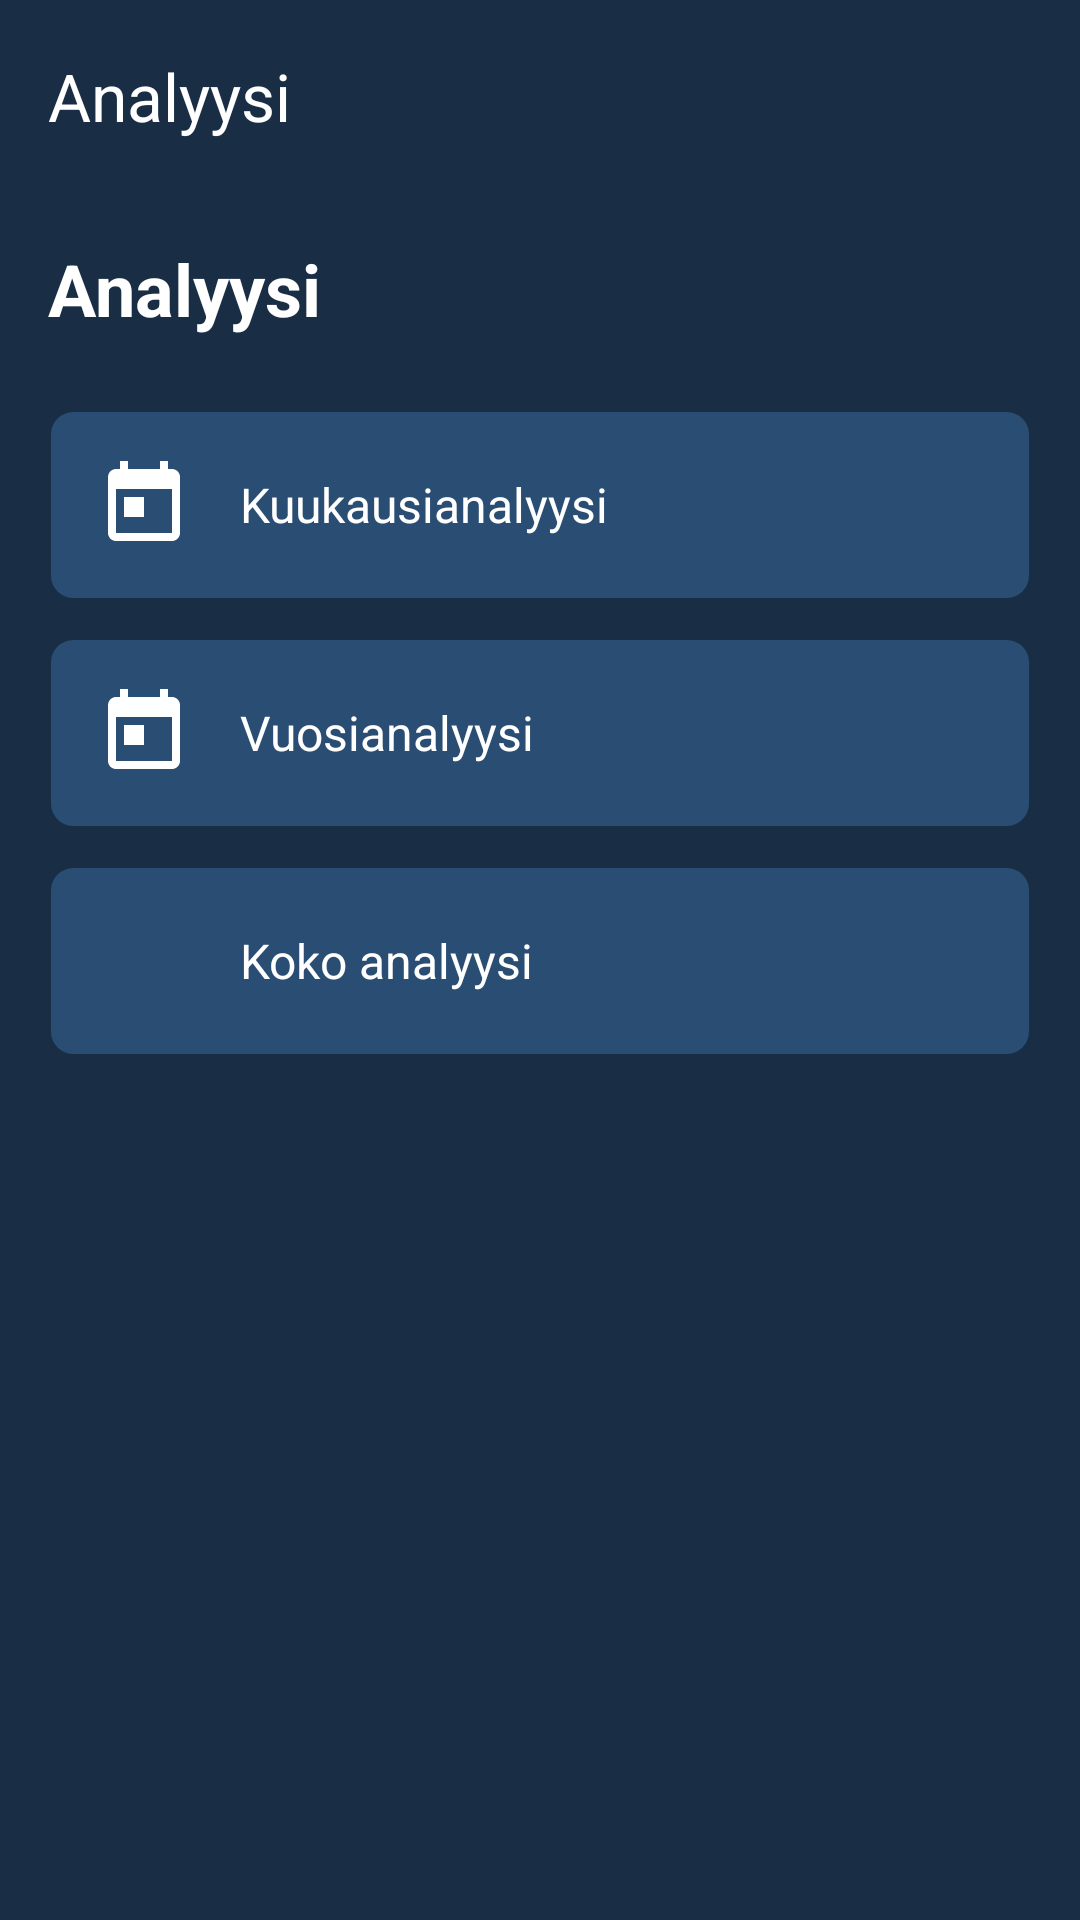

Locate icon controls on the screen. Image size 1080 × 1920, boxes as (left=x1, top=y1, right=x2, bottom=y2).
calendar: (left=108, top=461, right=180, bottom=541), (left=108, top=689, right=180, bottom=769)
